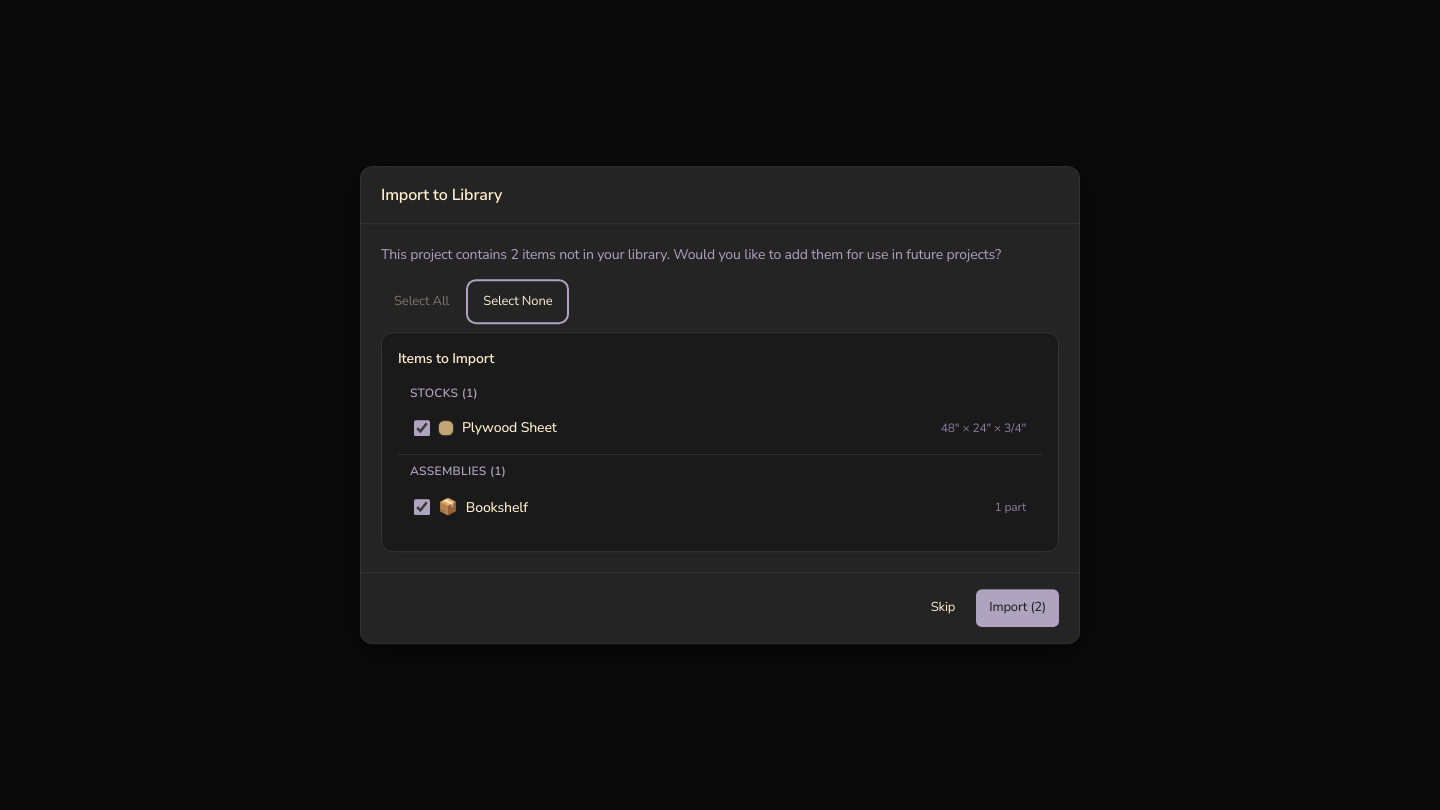
Test: ImportToLibraryDialog › selection controls › Select None deselects all items
Click the button "Select None" at (518, 302), box [470, 283, 565, 320]
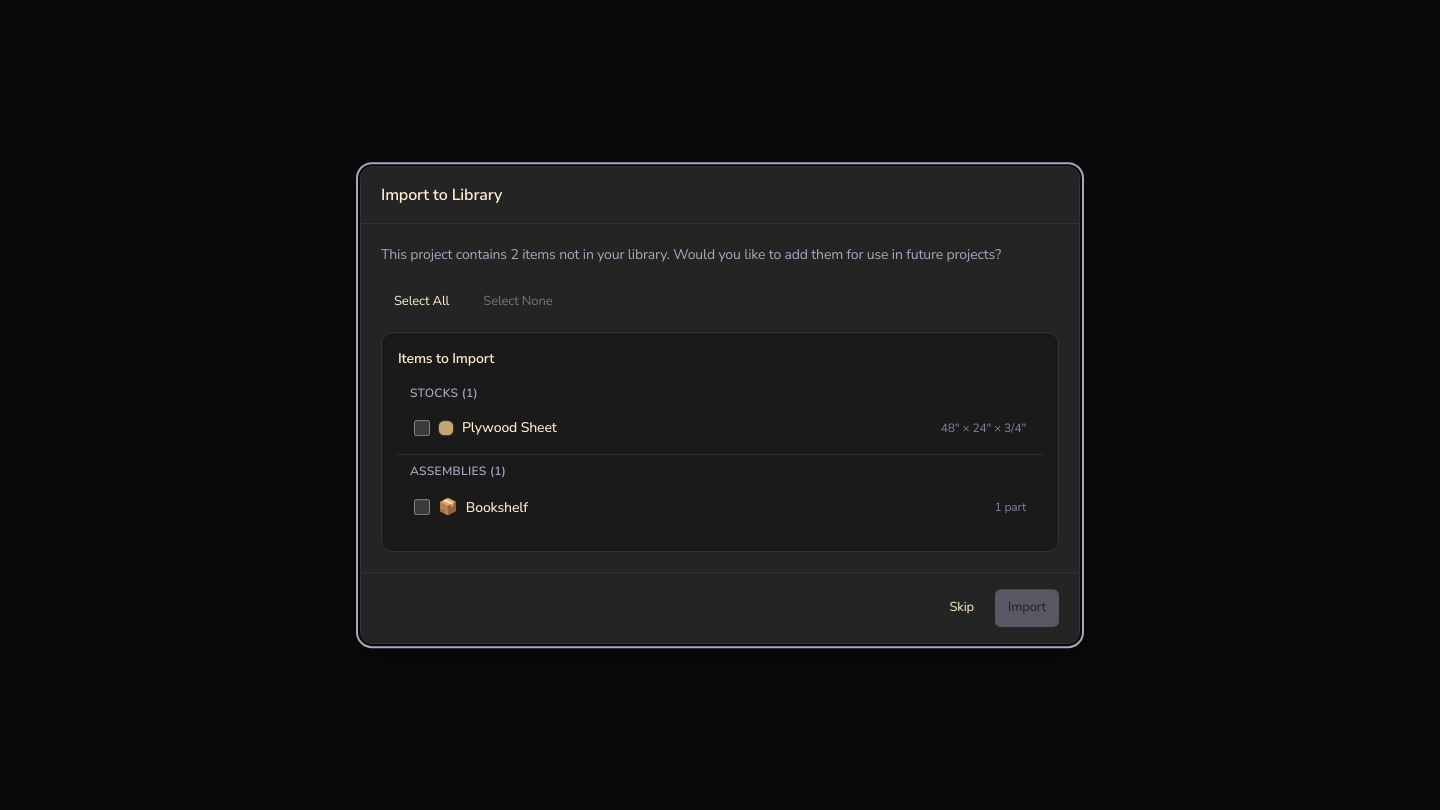
Now the checkbox labelled "Plywood Sheet 48\" × 24\" × 3/4\"" is not checked, box [414, 420, 430, 436]
Now the checkbox labelled "📦 Bookshelf 1 part" is not checked, box [414, 499, 430, 515]
